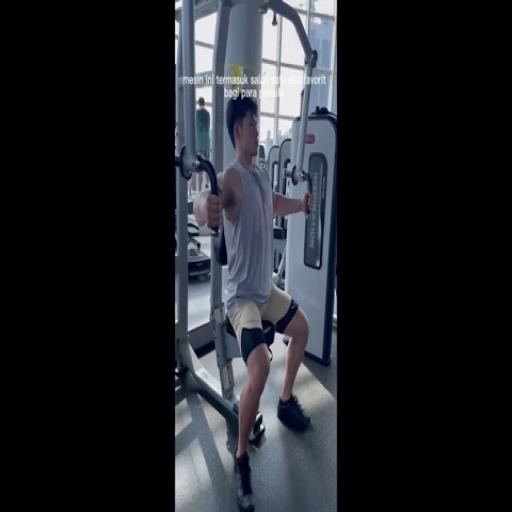exercise: (193, 91, 317, 511)
